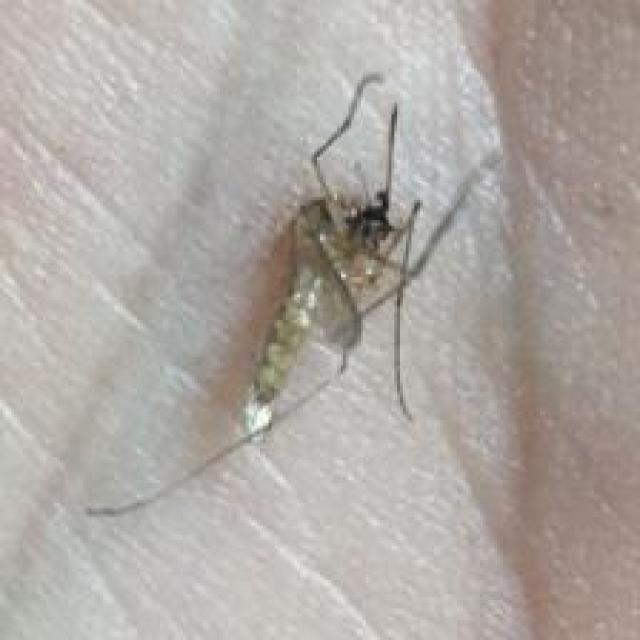Culex: (83, 70, 500, 519)
